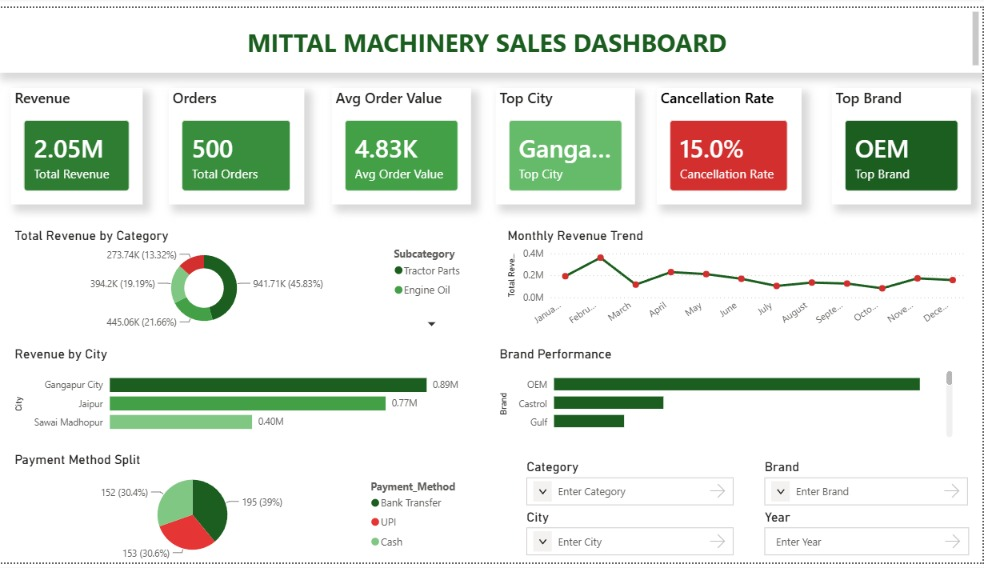

Layout of this report page (visuals, bound fields, positions):
{"tool":"powerbi","page":{"name":"Page 1","canvas":[1280,720],"ordinal":0},"visuals":[{"type":"cardVisual","title":"Top City","fields":{"Data":["mittal_machinery_sales.Top City"]},"box":[647.7,104.3,181.1,150.9],"z":0},{"type":"cardVisual","title":"Avg Order Value","fields":{"Data":["mittal_machinery_sales.Avg Order Value"]},"box":[435,104.3,181.1,150.9],"z":1000},{"type":"cardVisual","title":"Orders","fields":{"Data":["mittal_machinery_sales.Total Orders"]},"box":[223.7,104.3,175.6,150.9],"z":2000},{"type":"cardVisual","title":"Revenue","fields":{"Data":["mittal_machinery_sales.Total Revenue"]},"box":[17.8,104.3,171.5,150.9],"z":3000},{"type":"donutChart","title":"Total Revenue by Category","fields":{"Category":["mittal_machinery_sales.Subcategory"],"Y":["mittal_machinery_sales.Total Revenue"]},"box":[17.8,285.4,598.3,137.2],"z":4000},{"type":"lineChart","title":"Monthly Revenue Trend","fields":{"Category":["mittal_machinery_sales.Order_Date.Variation.Date Hierarchy.Year","mittal_machinery_sales.Order_Date.Variation.Date Hierarchy.Quarter","mittal_machinery_sales.Order_Date.Variation.Date Hierarchy.Month","mittal_machinery_sales.Order_Date.Variation.Date Hierarchy.Day"],"Y":["mittal_machinery_sales.Total Revenue"]},"box":[658.7,285.4,606.5,137.2],"z":5000},{"type":"clusteredBarChart","title":"Revenue by City","fields":{"Category":["mittal_machinery_sales.City"],"Y":["mittal_machinery_sales.Total Revenue"]},"box":[17.8,439.1,598.3,123.5],"z":6000},{"type":"clusteredBarChart","title":"Brand Performance","fields":{"Category":["mittal_machinery_sales.Brand"],"Y":["mittal_machinery_sales.Total Revenue"]},"box":[647.7,439.1,598.3,123.5],"z":7000},{"type":"pieChart","title":"Payment Method Split","fields":{"Category":["mittal_machinery_sales.Payment_Method"],"Y":["mittal_machinery_sales.Total Orders"]},"box":[17.8,576.3,598.3,144.1],"z":8000},{"type":"textSlicer","fields":{"Values":["mittal_machinery_sales.Year"]},"box":[991.7,650.5,275.1,64.8],"z":9000},{"type":"textSlicer","fields":{"Values":["mittal_machinery_sales.City"]},"box":[683.6,650.5,278.8,64.8],"z":10000},{"type":"textSlicer","fields":{"Values":["mittal_machinery_sales.Category"]},"box":[683.6,585.7,278.8,63.6],"z":11000},{"type":"textbox","box":[0,0,1280.3,83.7],"z":12000},{"type":"cardVisual","title":"Cancellation Rate","fields":{"Data":["mittal_machinery_sales.Cancellation Rate"]},"box":[857.6,104.3,188,150.9],"z":13000},{"type":"cardVisual","title":"Top Brand","fields":{"Data":["mittal_machinery_sales.Top Brand"]},"box":[1084.1,104.3,181.1,150.9],"z":14000},{"type":"textSlicer","fields":{"Values":["mittal_machinery_sales.Brand"]},"box":[991.7,585.7,273.9,61.1],"z":15000}]}

Visuals, with their boxes in screenshot pixels (x1, y1, x2, y2), scaled from the page's 1280x720 canvas onto the 984x568 screenshot:
"Top City" cardVisual: [498,82,637,201]
"Avg Order Value" cardVisual: [334,82,474,201]
"Orders" cardVisual: [172,82,307,201]
"Revenue" cardVisual: [14,82,146,201]
"Total Revenue by Category" donutChart: [14,225,474,333]
"Monthly Revenue Trend" lineChart: [506,225,973,333]
"Revenue by City" clusteredBarChart: [14,346,474,444]
"Brand Performance" clusteredBarChart: [498,346,958,444]
"Payment Method Split" pieChart: [14,455,474,567]
textSlicer - mittal_machinery_sales.Year: [762,513,974,564]
textSlicer - mittal_machinery_sales.City: [526,513,740,564]
textSlicer - mittal_machinery_sales.Category: [526,462,740,512]
textbox: [0,0,983,66]
"Cancellation Rate" cardVisual: [659,82,804,201]
"Top Brand" cardVisual: [833,82,973,201]
textSlicer - mittal_machinery_sales.Brand: [762,462,973,510]
